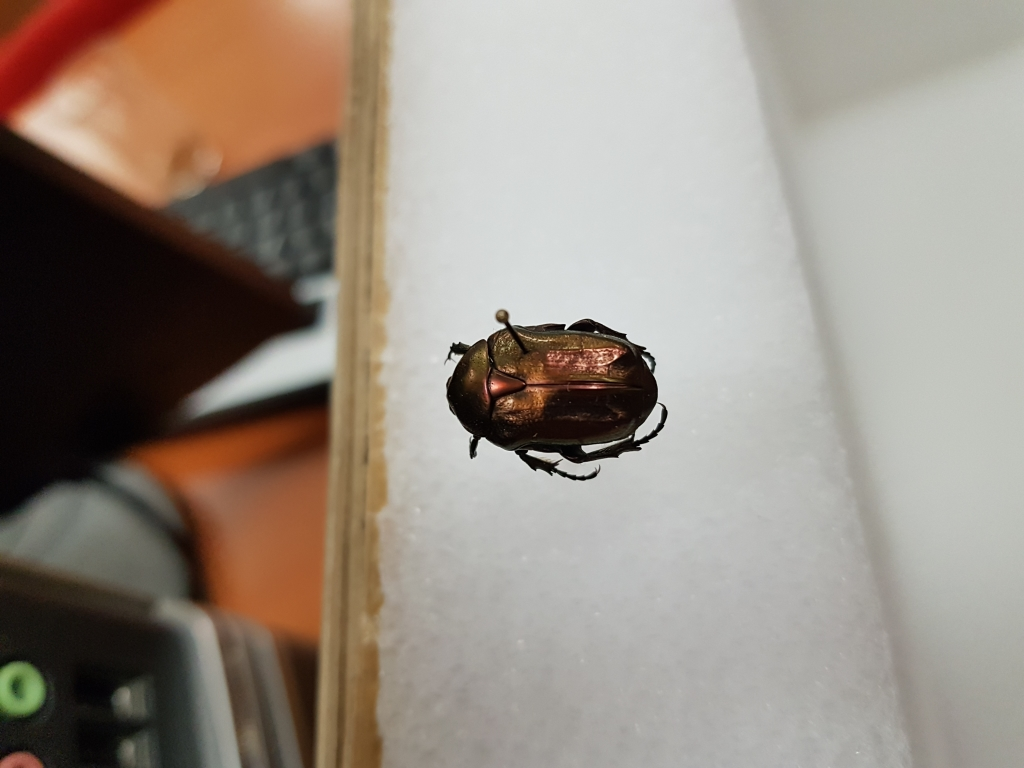Cetonia_aurata: (438, 320, 672, 495)
